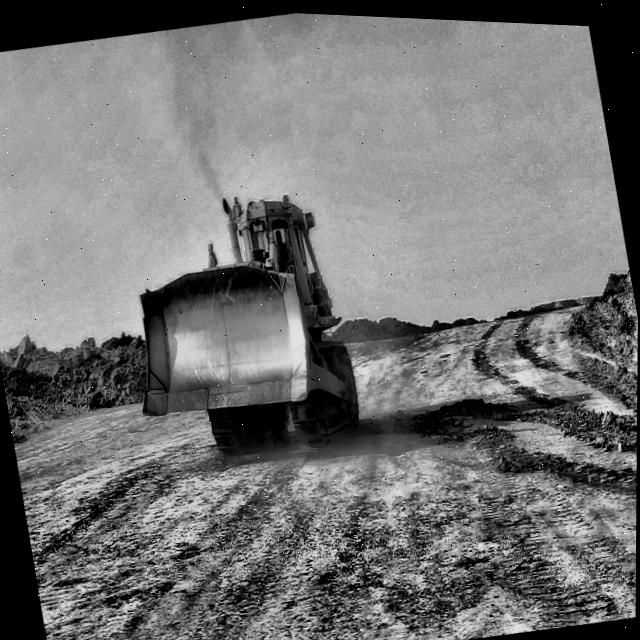buldozerpayloadergrader: (143, 195, 361, 452)
